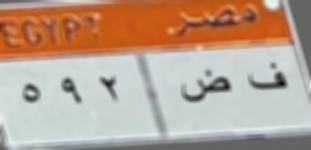2: (97, 71, 122, 106)
5: (19, 77, 46, 114)
9: (57, 73, 84, 114)
daad: (175, 66, 232, 112)
faa: (245, 59, 290, 102)
